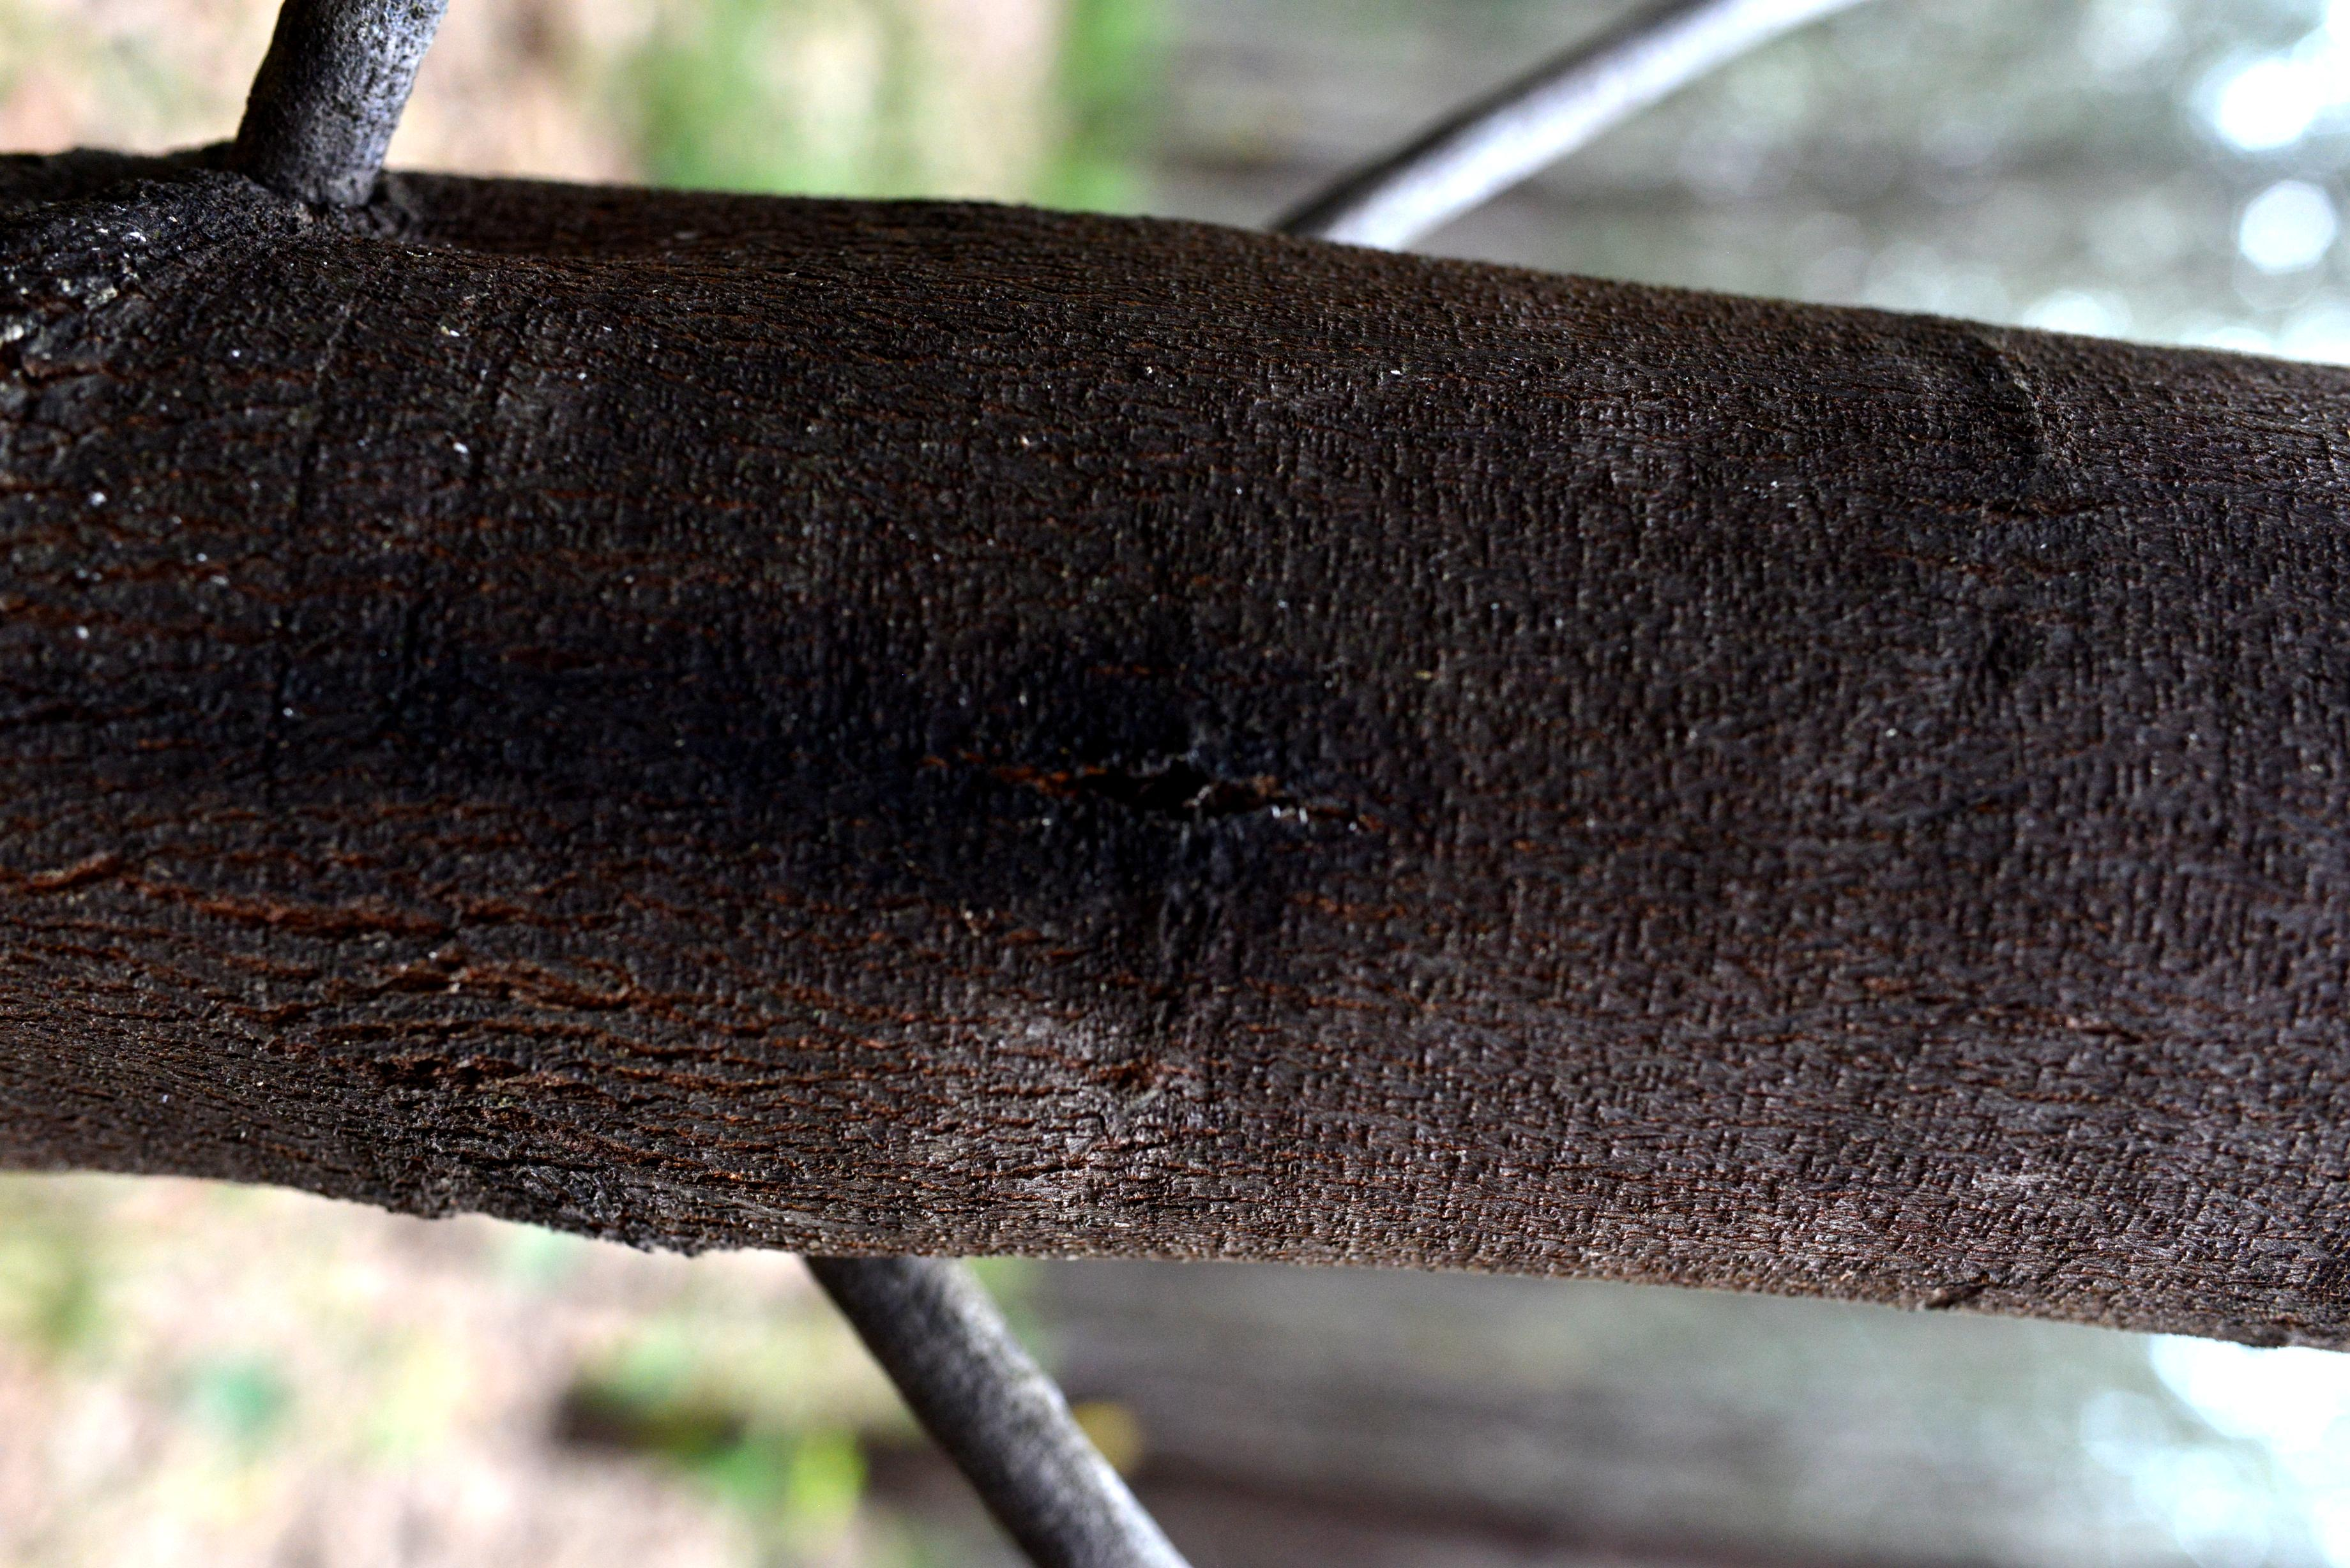Stem Borer: (905, 679, 1402, 910)
